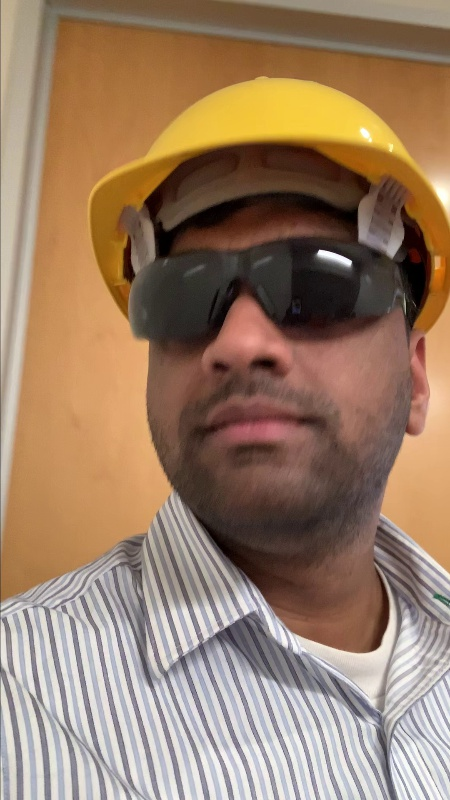glasses: (110, 240, 419, 342)
helmet: (63, 63, 450, 253)
